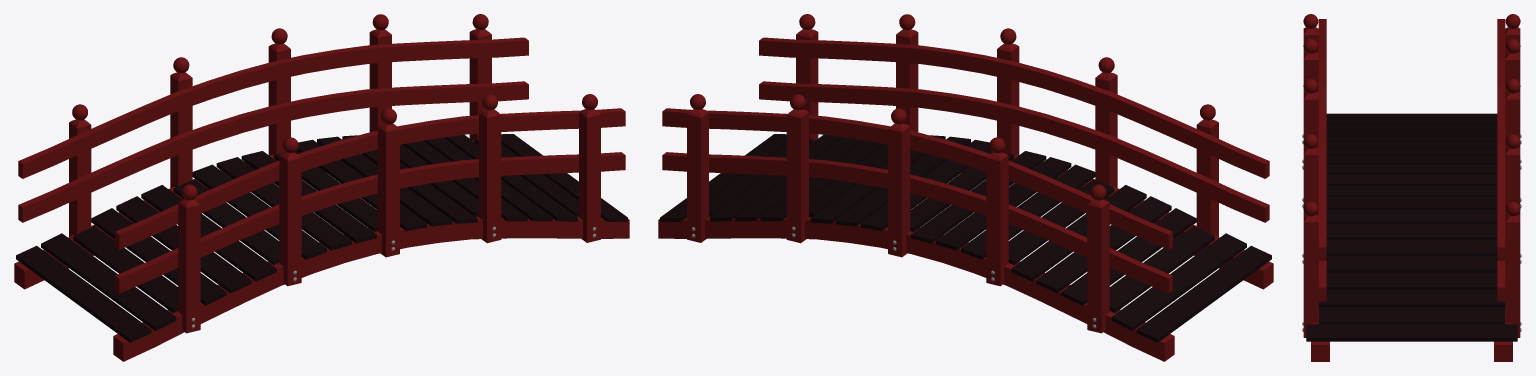
Rendered from kopru.fbx.
3 views of the same model, side by side, from view 1: azimuth 30°, elevation 25°; view 2: azimuth 150°, elevation 25°; view 3: azimuth 270°, elevation 25° (orthographic). The views are drawn at different scales.
Visible parts, largest first — view 1: Cube.002; view 2: Cube.002; view 3: Cube.002.
Boxes of the visible parts, <box> form: Cube.002: <box>14,14,629,361</box>; Cube.002: <box>658,14,1273,361</box>; Cube.002: <box>1302,14,1521,361</box>.
Bounding box in the file's own units: 398 × 141 × 162.
